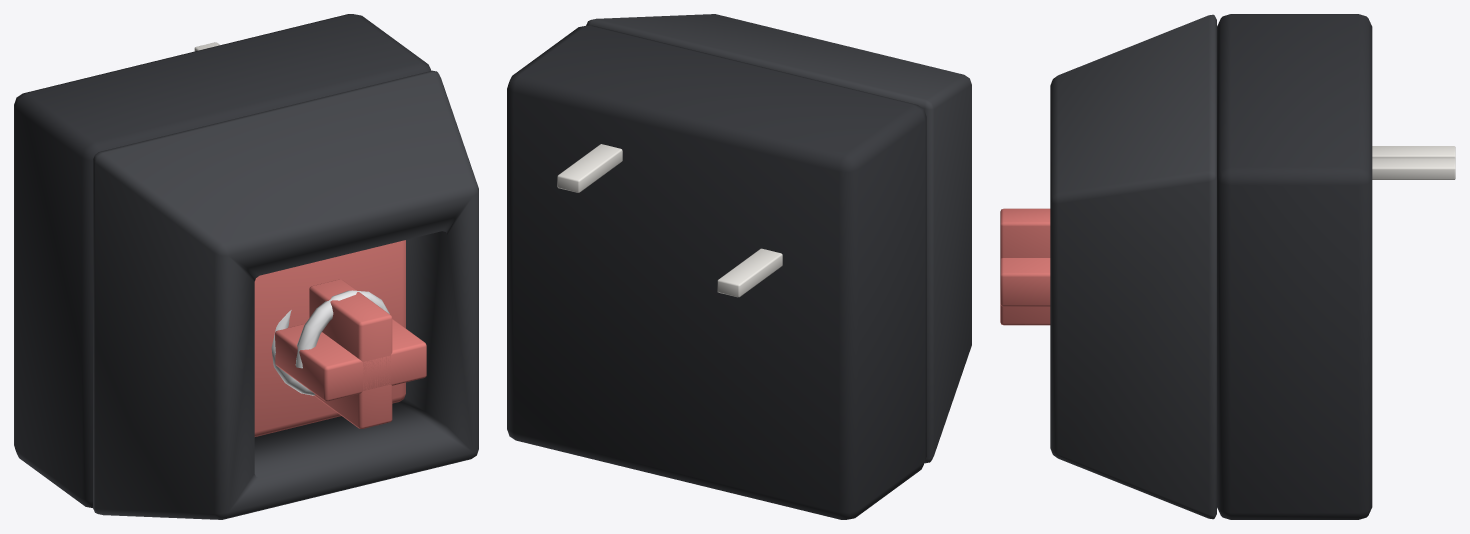
Rendered from switch.glb.
3 views of the same model, side by side, from view 1: azimuth 30°, elevation 25°; view 2: azimuth 150°, elevation 25°; view 3: azimuth 270°, elevation 25° (orthographic). The views are drawn at different scales.
Parts seen in each view (by area): view 1: SwitchTop, SwitchBottom, SwitchStem, SwitchSpring; view 2: SwitchBottom, SwitchTop, SwitchPin0, SwitchPin1; view 3: SwitchBottom, SwitchTop, SwitchStem, SwitchPin1, SwitchPin0.
Boxes of the visible parts, x1,y1,x2,y2 form: SwitchTop: [93, 70, 478, 519]; SwitchBottom: [14, 14, 431, 507]; SwitchStem: [254, 240, 426, 436]; SwitchSpring: [271, 290, 389, 395]; SwitchBottom: [507, 25, 926, 519]; SwitchTop: [586, 14, 971, 463]; SwitchPin0: [717, 248, 782, 297]; SwitchPin1: [557, 144, 622, 192]; SwitchBottom: [1217, 14, 1372, 519]; SwitchTop: [1050, 14, 1216, 519]; SwitchStem: [1000, 208, 1050, 325]; SwitchPin1: [1372, 158, 1455, 179]; SwitchPin0: [1372, 146, 1455, 158].
Size of the model in its own units: 14 by 14 by 16.4.
